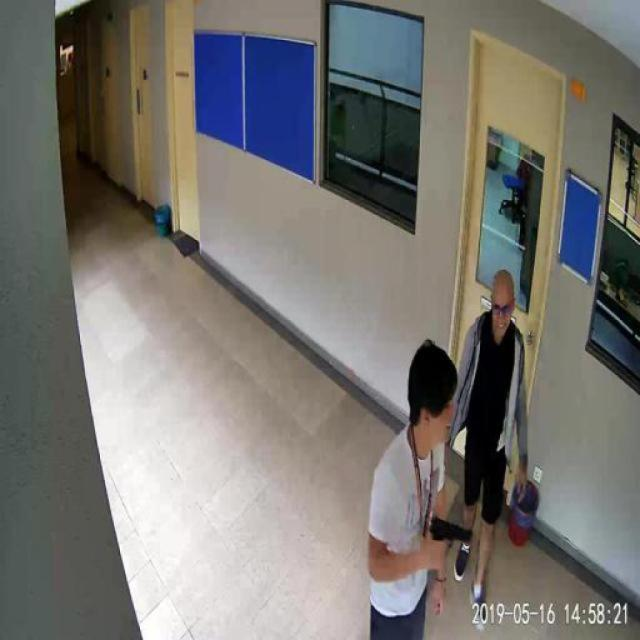pistol: (429, 513, 470, 567)
